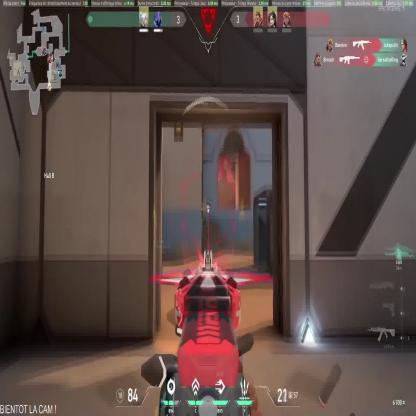enemy: (238, 200, 244, 221), (200, 199, 206, 215), (152, 204, 156, 220)
enemy_head: (240, 201, 244, 205), (153, 204, 155, 209), (202, 201, 204, 205)
